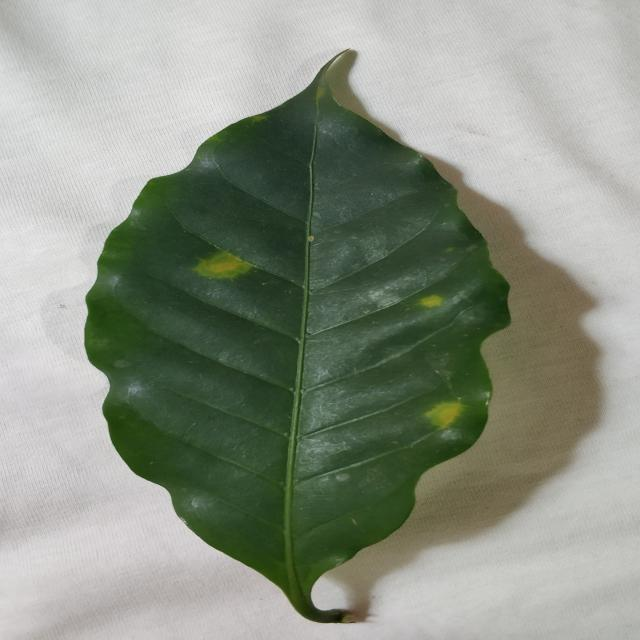Enfermedad-Roya: (83, 52, 512, 626)
